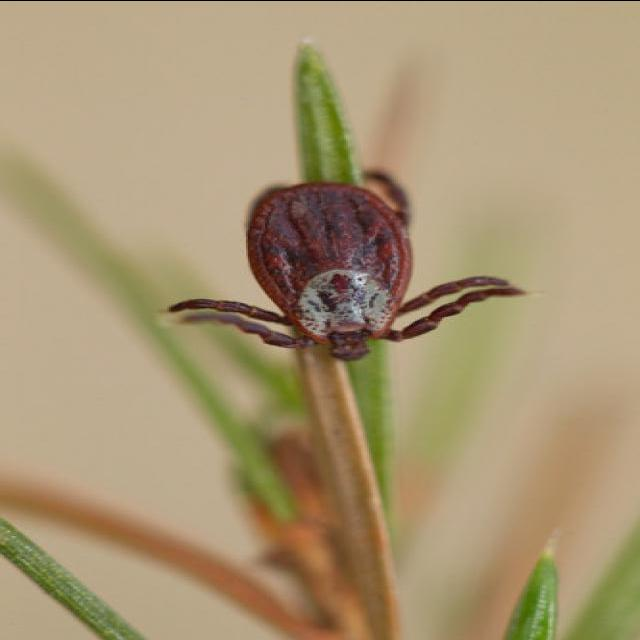Dermacentor Reticulatus-F: (163, 169, 529, 362)
